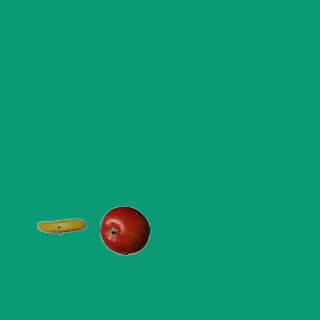Apple Braeburn: (99, 205, 149, 255)
Banana: (36, 201, 86, 251)
